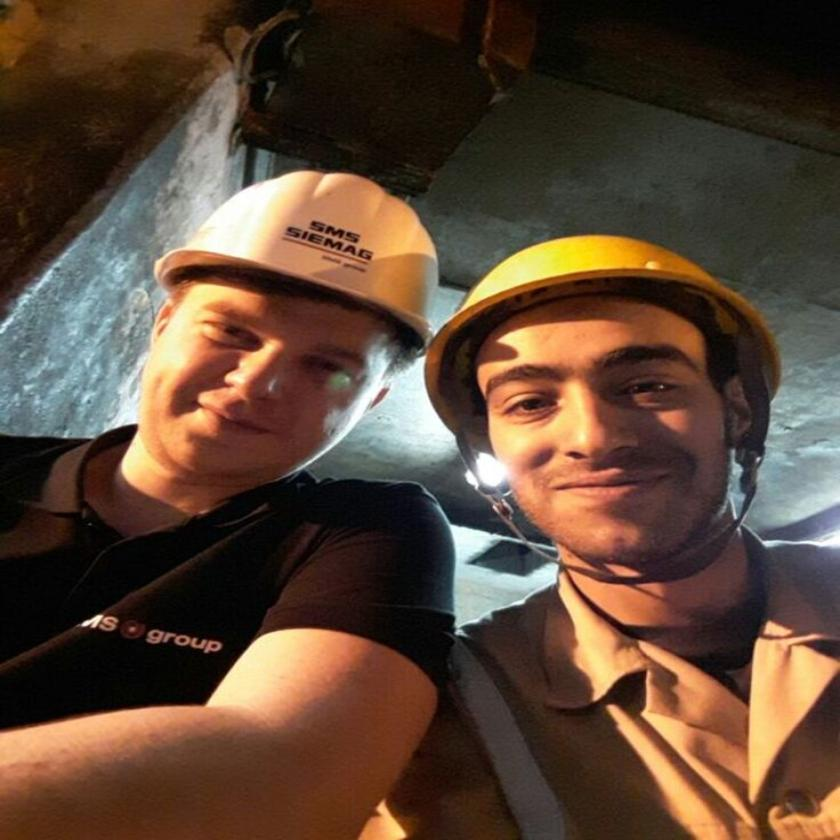Con_casco: (422, 230, 794, 637), (129, 168, 445, 505)
